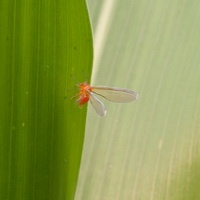insect: (76, 82, 137, 116)
